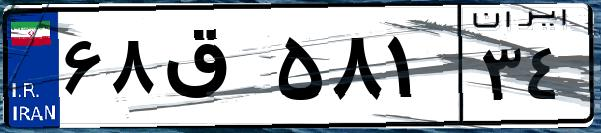1: (385, 28, 445, 110)
3: (475, 38, 525, 113)
4: (525, 38, 570, 115)
5: (270, 28, 330, 110)
6: (57, 26, 110, 100)
8: (330, 28, 385, 110), (110, 28, 158, 98)
ق: (158, 20, 270, 120)
